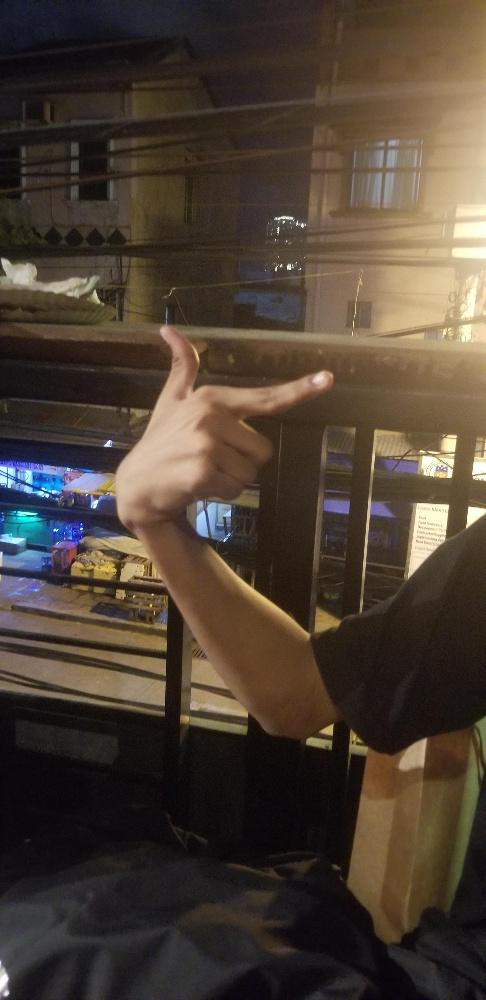g: (114, 325, 333, 525)
